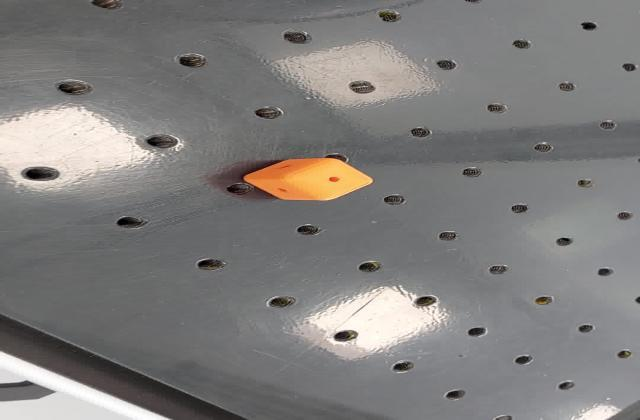cube: (238, 154, 380, 204)
